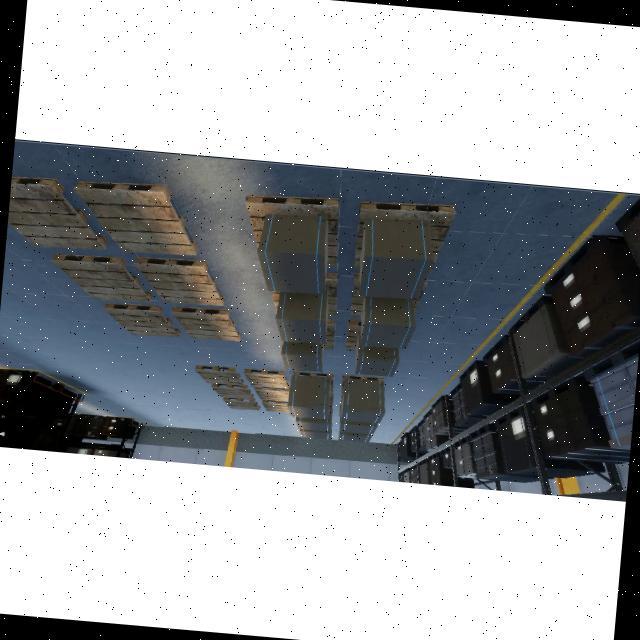wooden_pallet: (71, 182, 200, 257), (7, 175, 109, 249), (354, 201, 454, 274), (244, 195, 337, 267), (52, 253, 155, 303), (135, 256, 226, 306), (102, 303, 181, 339), (169, 306, 241, 341), (291, 370, 333, 396), (194, 365, 245, 385), (243, 368, 289, 388), (342, 375, 385, 393), (205, 383, 249, 398), (222, 396, 260, 410), (255, 387, 289, 401), (261, 400, 288, 412)
